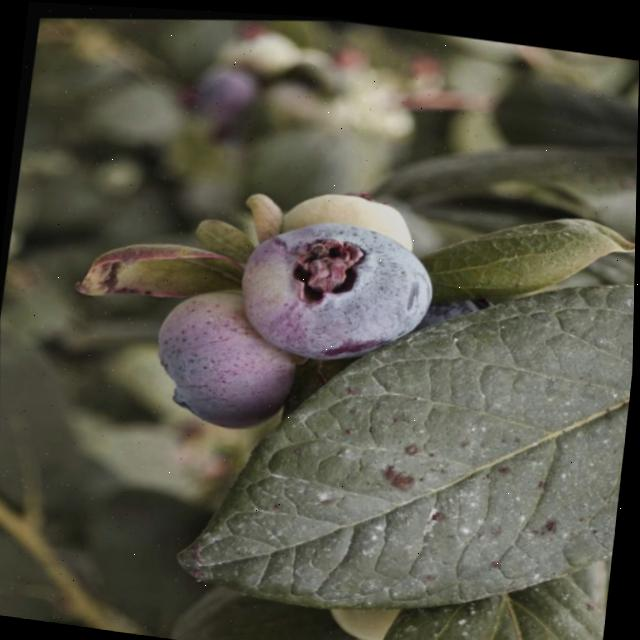Semi-RipeBlueBerry: (224, 194, 448, 383), (144, 275, 308, 441)
